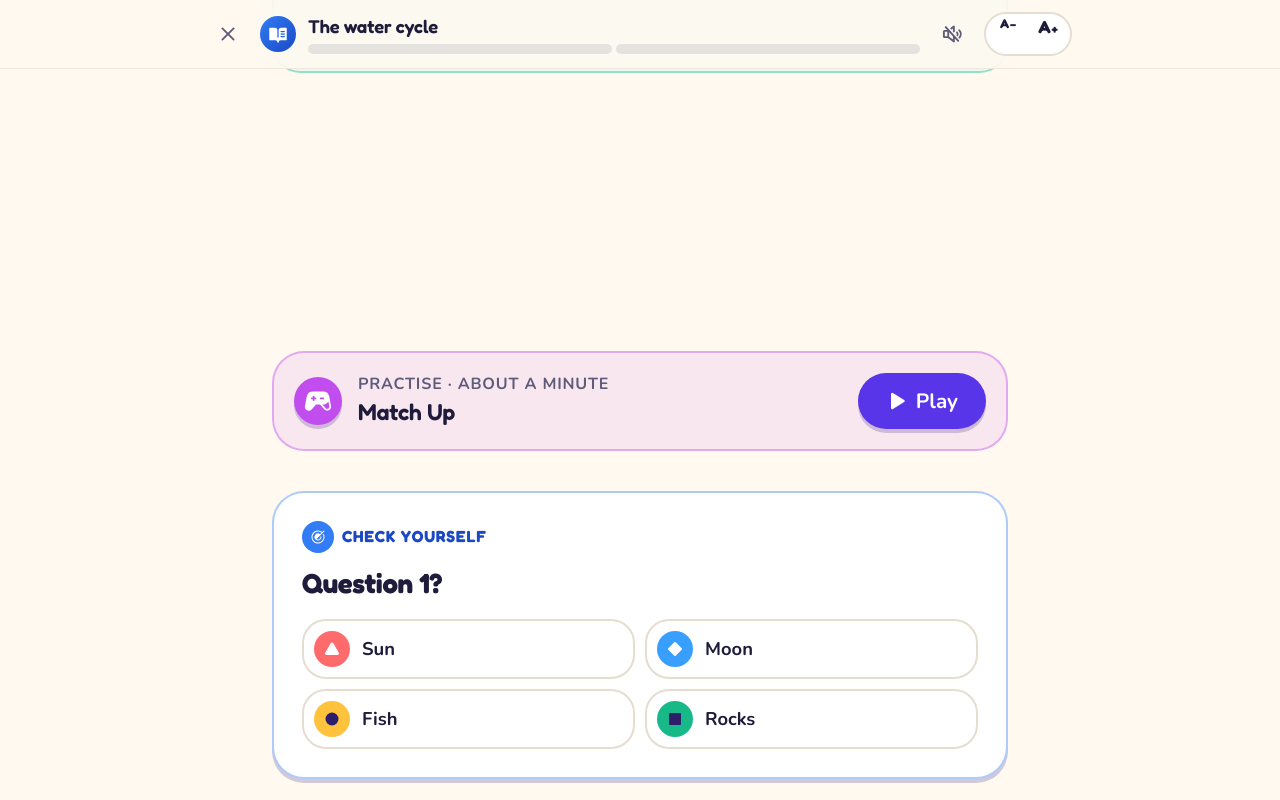
Scenario: learn, practise, play (§28.3.8) › offers each part a one-minute game, played full screen
The width and height of the screenshot is (1280, 800).
(page scrolled)
Expected: the text "Match Up" is shown, x1=358 y1=398 x2=455 y2=425
What coordinates should you click on to do the following:
click the button "Play"
I would click on:
 (922, 401)
Its box is x1=858 y1=373 x2=986 y2=429.
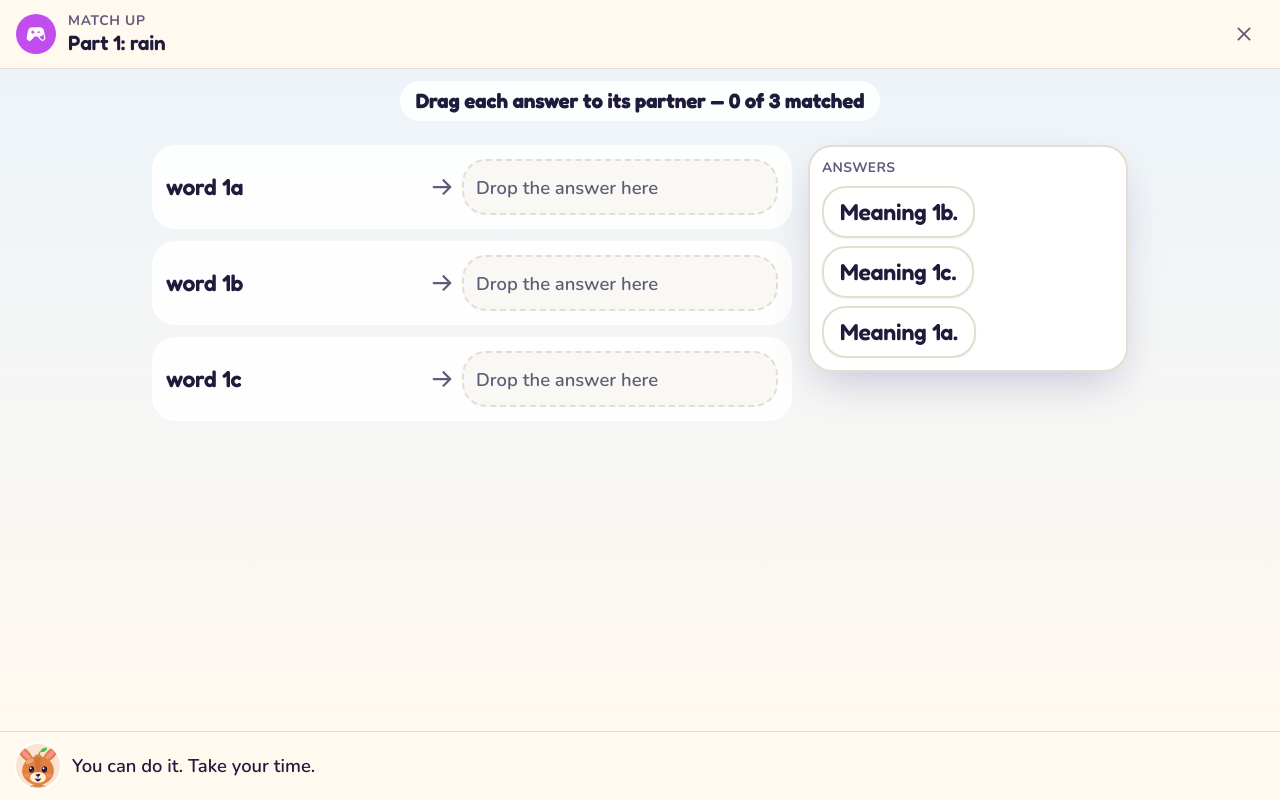
Expected: the text "word 1a" is shown, x1=166 y1=173 x2=243 y2=200
What coordinates should you click on to do the following:
click the button named "Back to the guide"
I would click on:
 (1244, 34)
Its box is x1=1224 y1=14 x2=1264 y2=54.
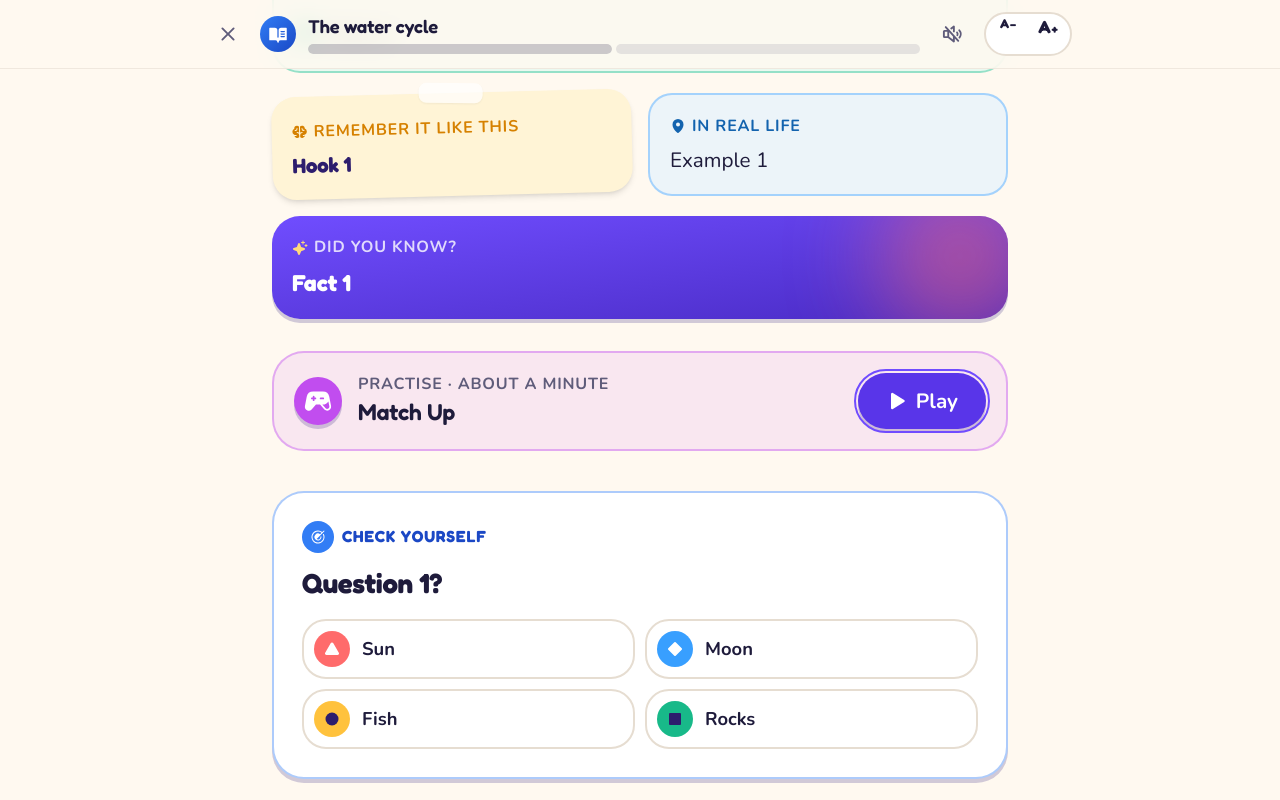
Expected: the dialog is gone
